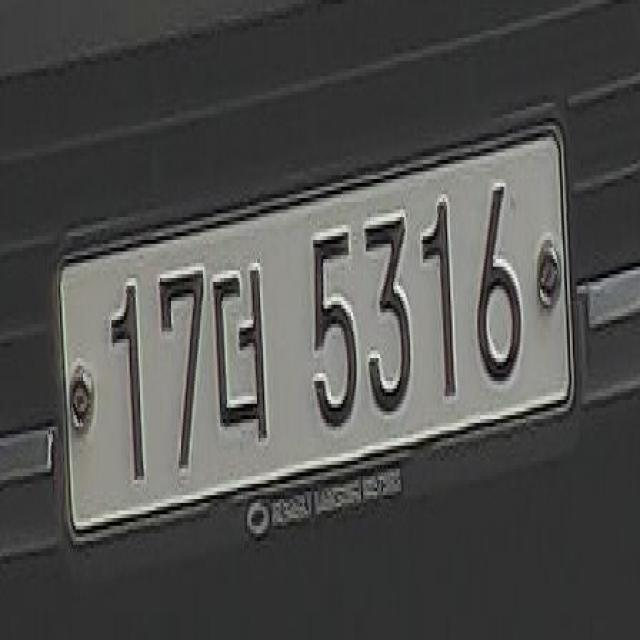1: (416, 175, 467, 415), (109, 248, 154, 499)
3: (359, 194, 414, 423)
5: (308, 209, 358, 442)
6: (473, 164, 524, 396)
7: (159, 240, 210, 491)
deo: (212, 240, 274, 469)
license_plate: (50, 103, 587, 587)
